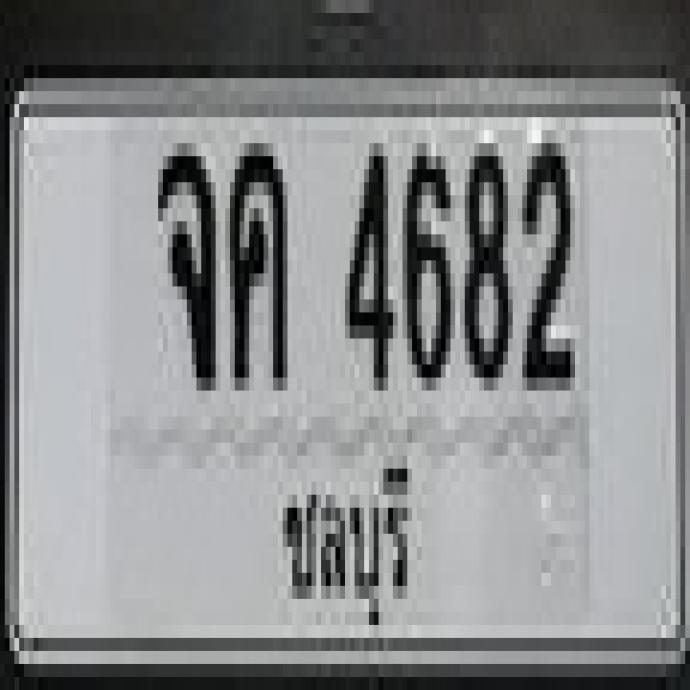2: (519, 132, 569, 378)
4: (342, 134, 390, 378)
6: (401, 138, 448, 378)
8: (460, 135, 507, 377)
A04: (226, 134, 284, 378)
A08: (154, 133, 211, 377)
CBI: (271, 440, 418, 635)
